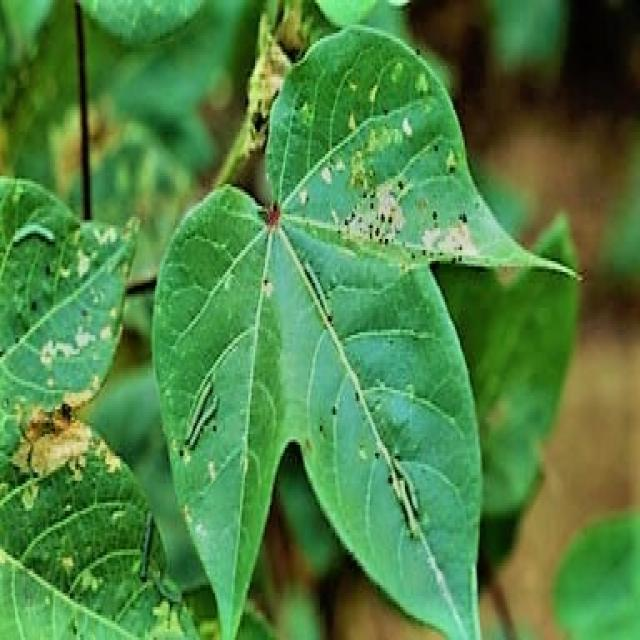armyworm: (386, 447, 430, 530), (182, 375, 224, 453), (10, 220, 58, 250)
